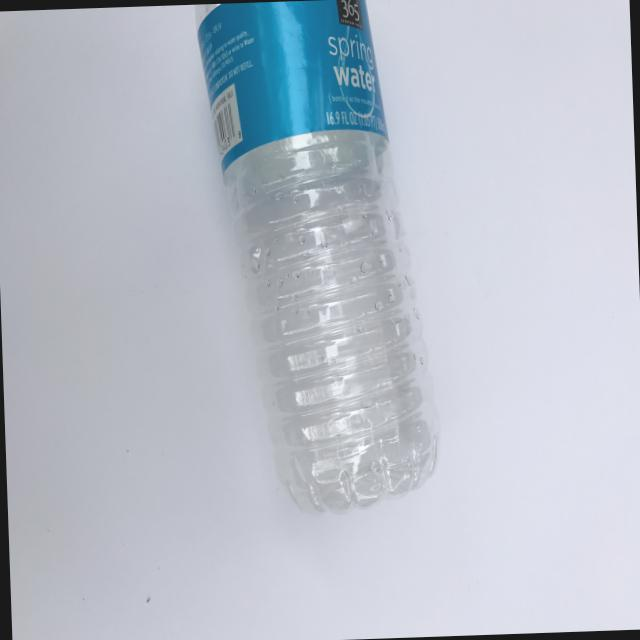Plastic: (165, 0, 456, 561)
